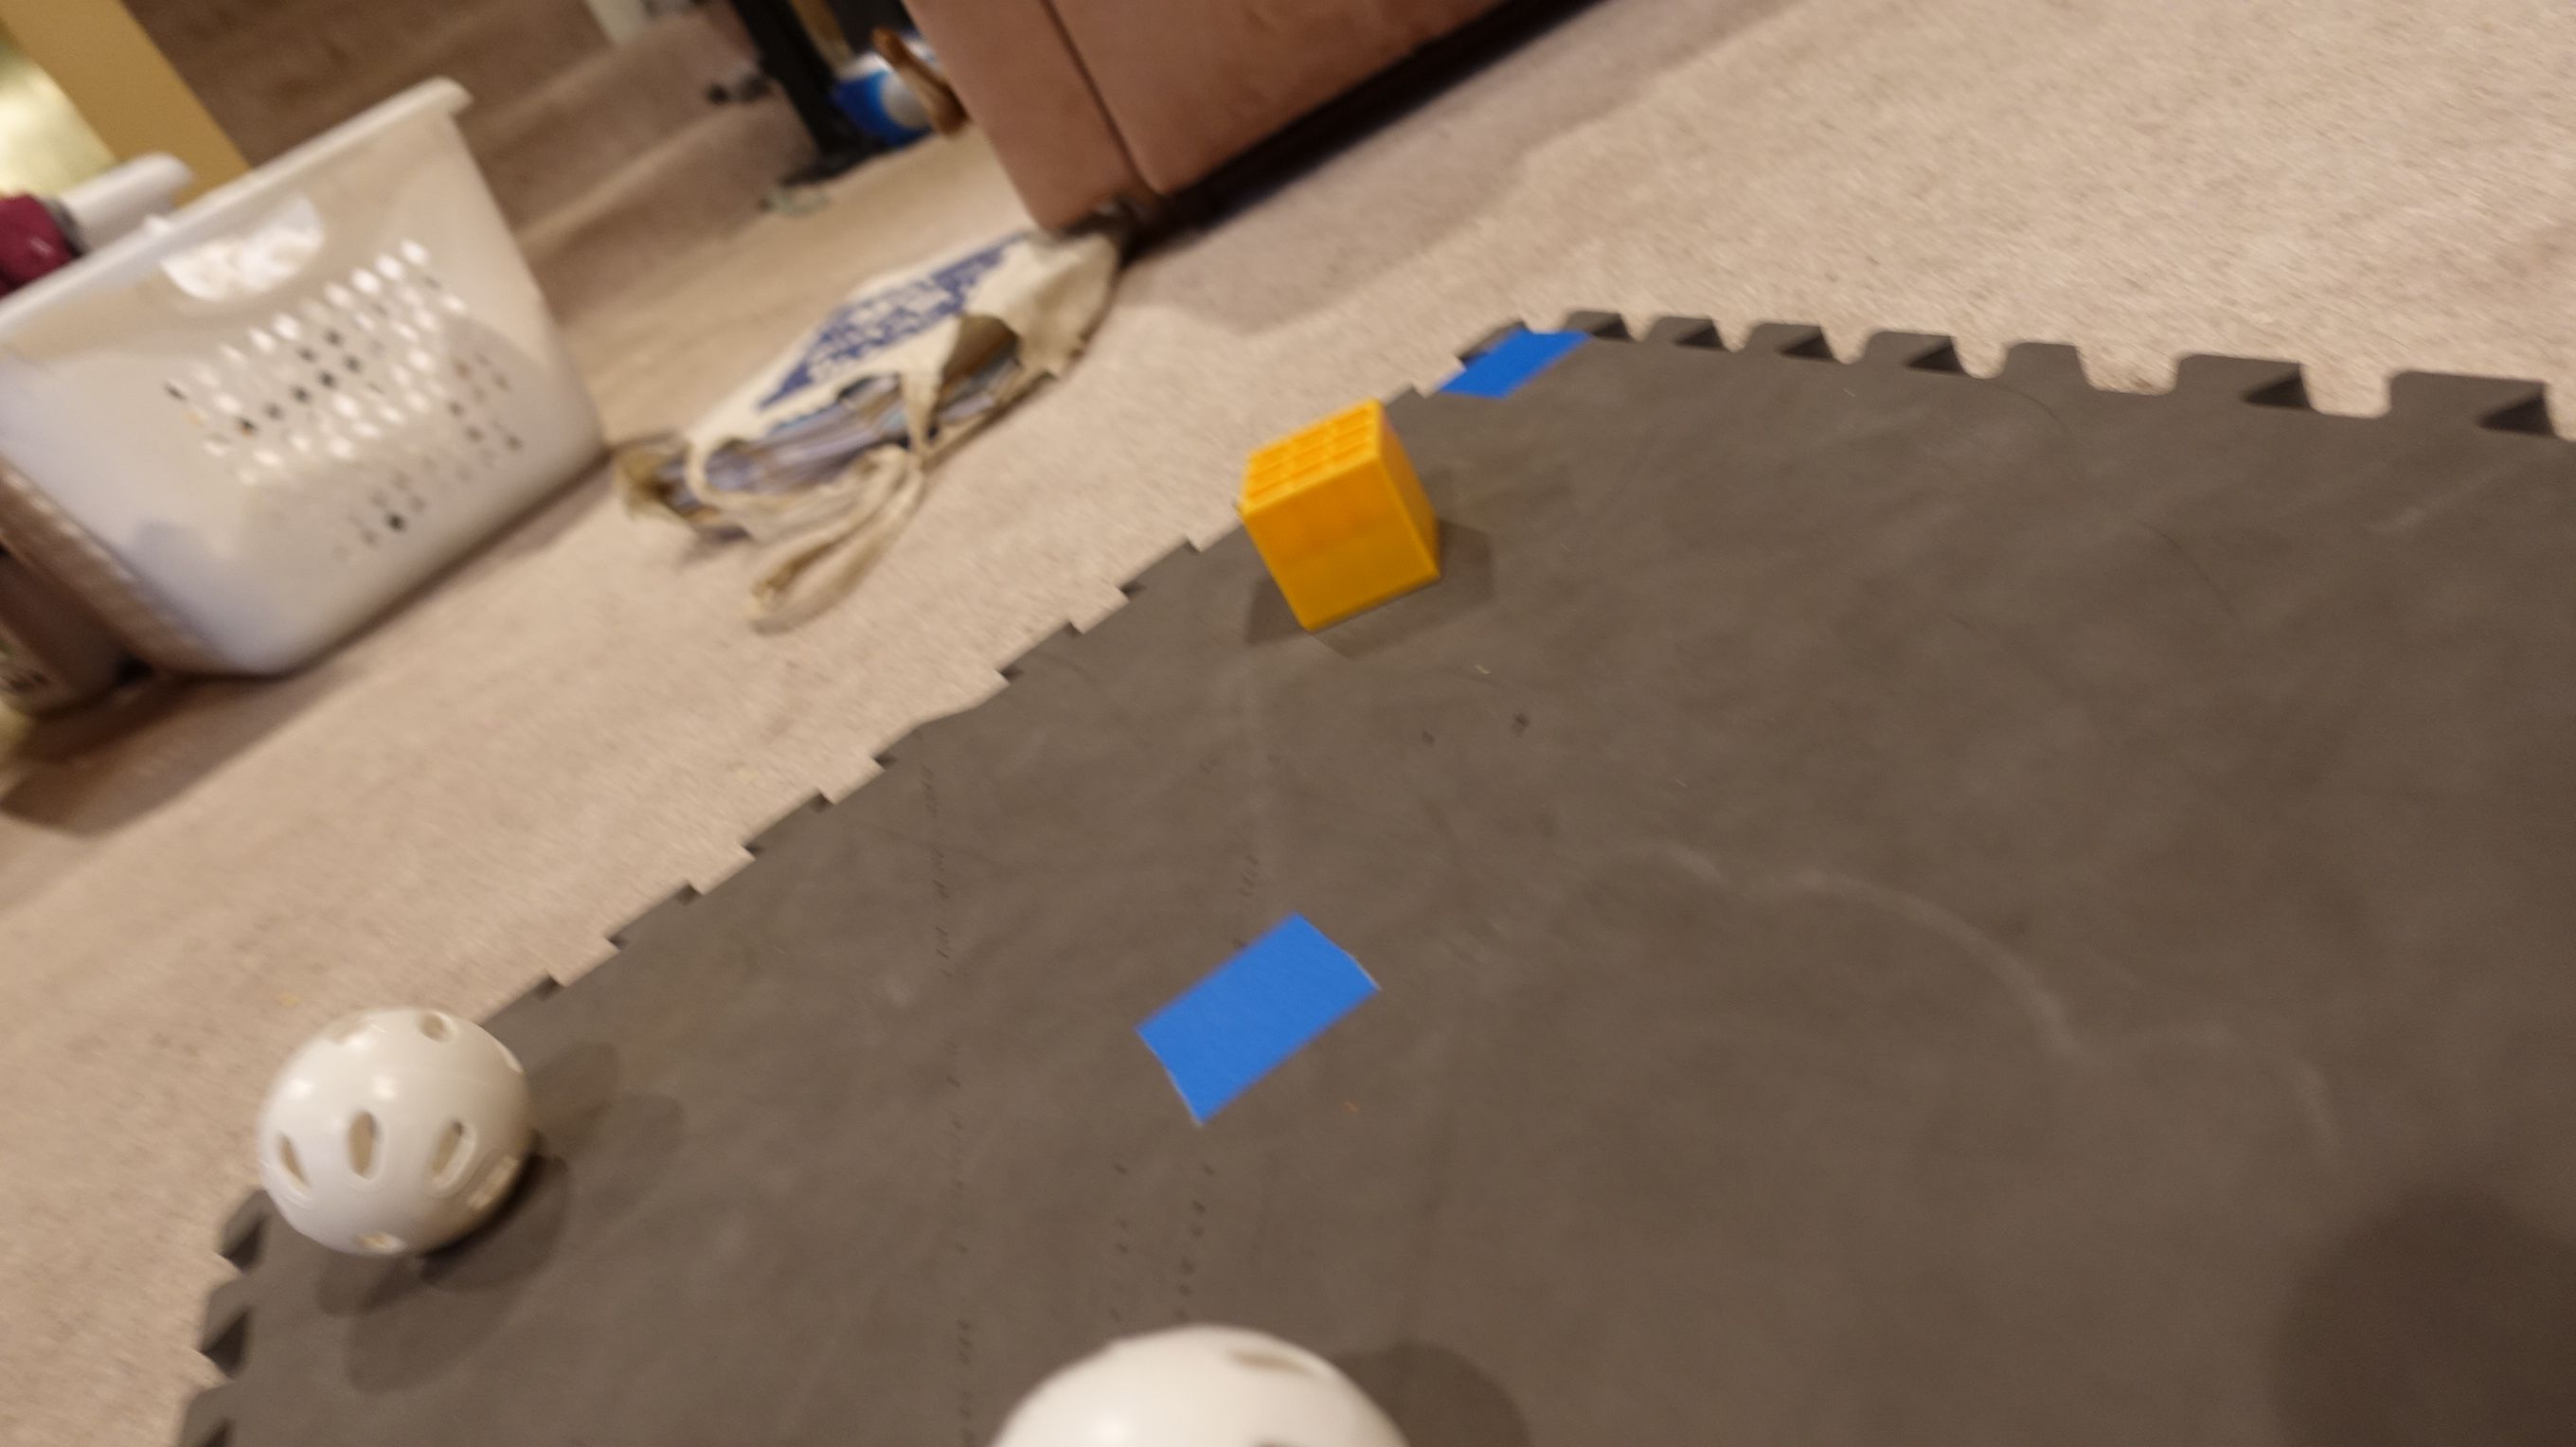gold: (1223, 394, 1454, 633)
silver: (246, 1008, 538, 1265), (961, 1297, 1419, 1447)
